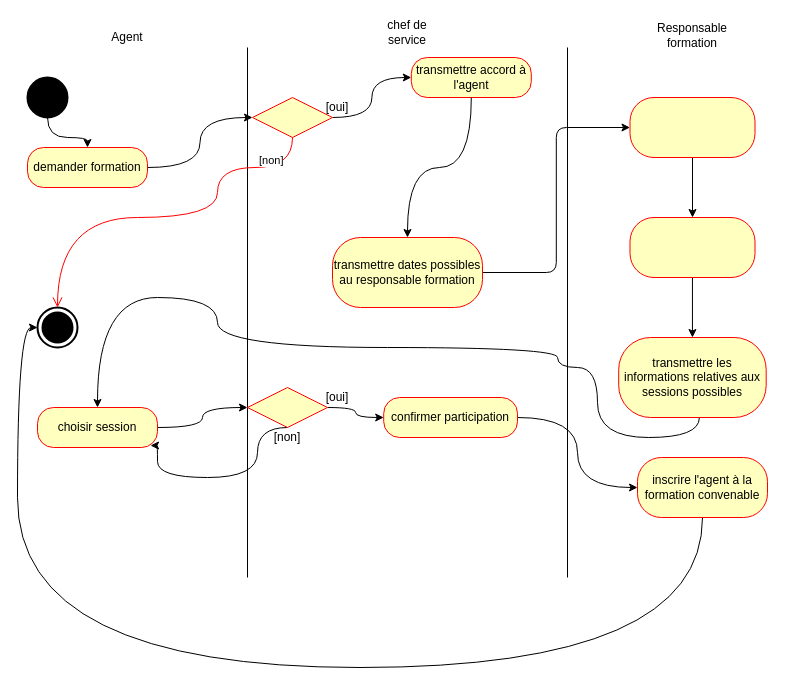
This 785x685 diagram has some shape labels left out. The centre of each missing label's shape, as x and y in pixels:
"accord" belongs at point (287, 407).
"contacter établissements de stage" belongs at point (692, 247).
"formation accéptée" belongs at point (292, 117).
"Rechercher formation possibles dans le catalogue" belongs at point (692, 127).
